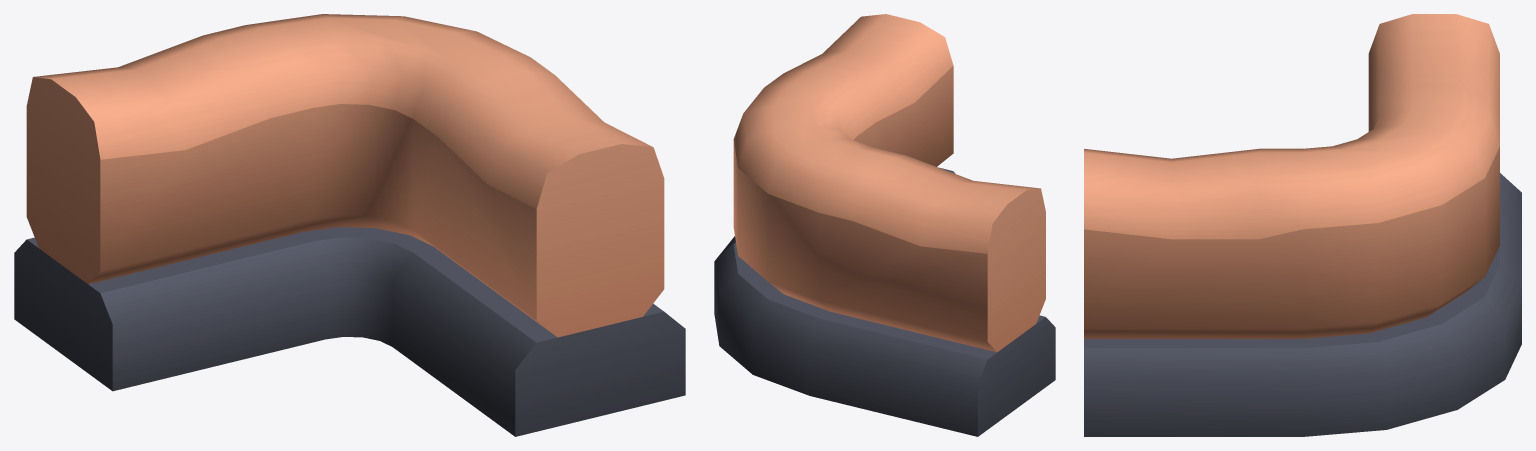
The model's file is hedge-large-curved.glb.
3 views of the same model, side by side, from view 1: azimuth 30°, elevation 25°; view 2: azimuth 150°, elevation 25°; view 3: azimuth 270°, elevation 25° (orthographic). The views are drawn at different scales.
Parts seen in each view (by area): view 1: hedge-large-curved; view 2: hedge-large-curved; view 3: hedge-large-curved.
Part boxes in pixels (x1,y1,x2,y2): hedge-large-curved: (14, 14, 685, 436); hedge-large-curved: (714, 14, 1055, 436); hedge-large-curved: (1084, 14, 1521, 436).
Size of the model in its own units: 1 by 0.6 by 1.
Materials: 1 (1 with a texture image).
